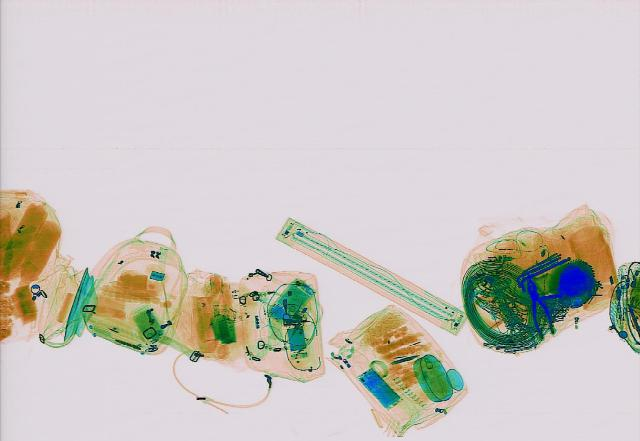Pliers: (518, 275, 558, 338)
